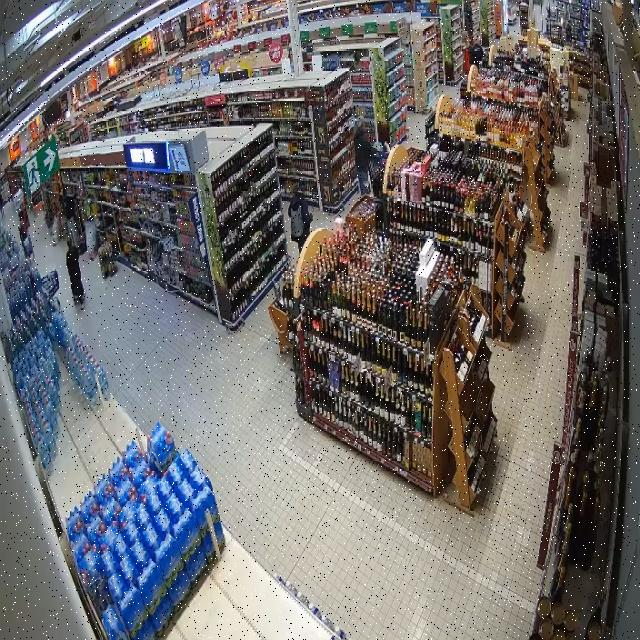bags: (290, 203, 304, 238)
person: (355, 117, 377, 194), (289, 189, 312, 252), (67, 239, 84, 308), (64, 189, 77, 245)
